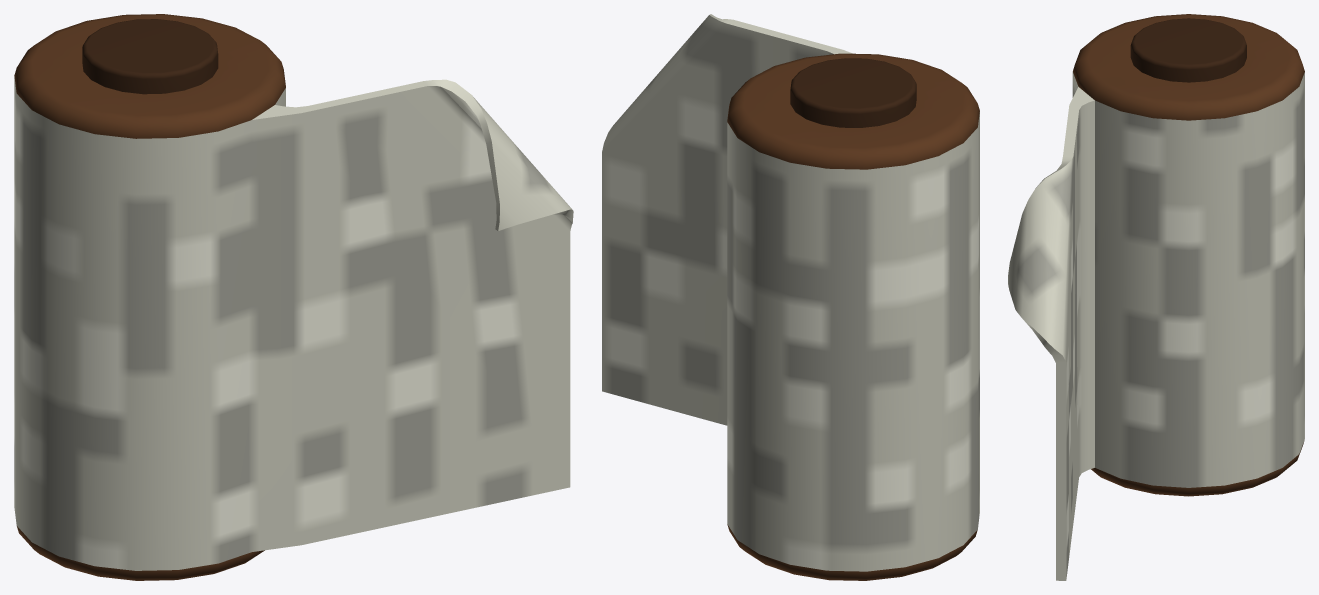
The model's file is Cloth Version 2.fbx.
3 views of the same model, side by side, from view 1: azimuth 30°, elevation 25°; view 2: azimuth 150°, elevation 25°; view 3: azimuth 270°, elevation 25° (orthographic). The views are drawn at different scales.
Visible parts, largest first — view 1: Cloth1:polySurface1; view 2: Cloth1:polySurface1; view 3: Cloth1:polySurface1.
Part boxes in pixels (x1=…): Cloth1:polySurface1: x1=14, y1=14, x2=573, y2=580; Cloth1:polySurface1: x1=602, y1=14, x2=979, y2=580; Cloth1:polySurface1: x1=1008, y1=14, x2=1304, y2=580.
Bounding box in the file's own units: 12.69 × 13.22 × 8.33.
1 material, 1 textured.
